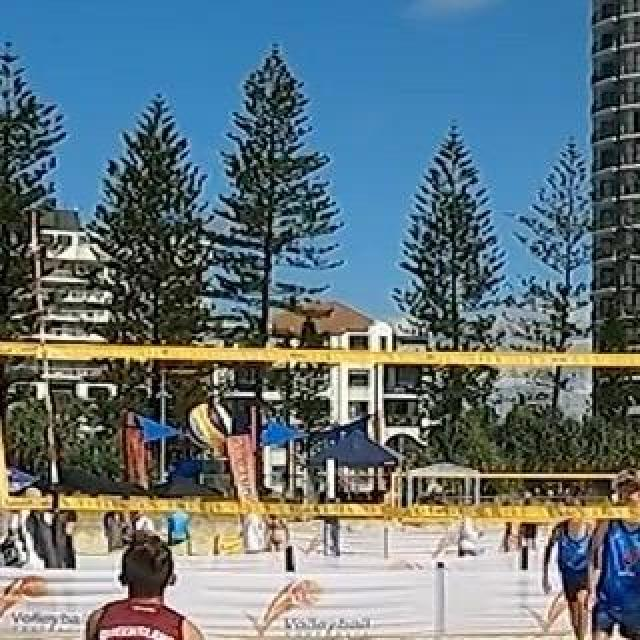volleyball: (187, 404, 233, 448)
